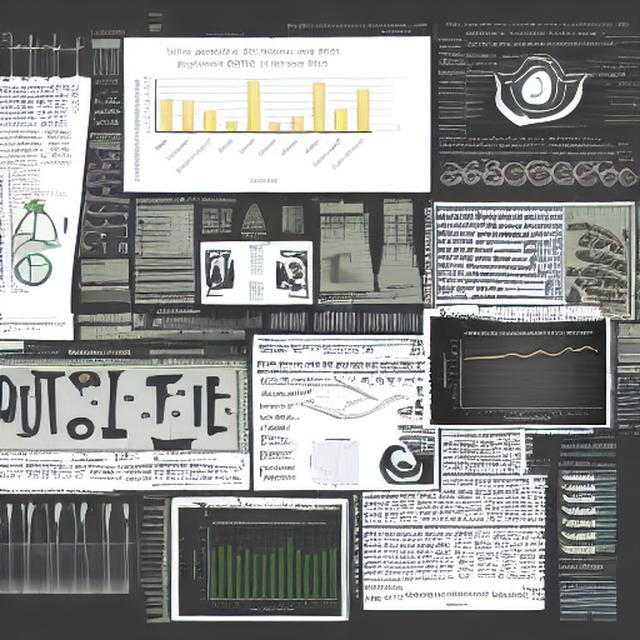Graph: (130, 43, 377, 189), (439, 326, 606, 425), (189, 515, 341, 616), (298, 435, 375, 488), (309, 305, 362, 335)
